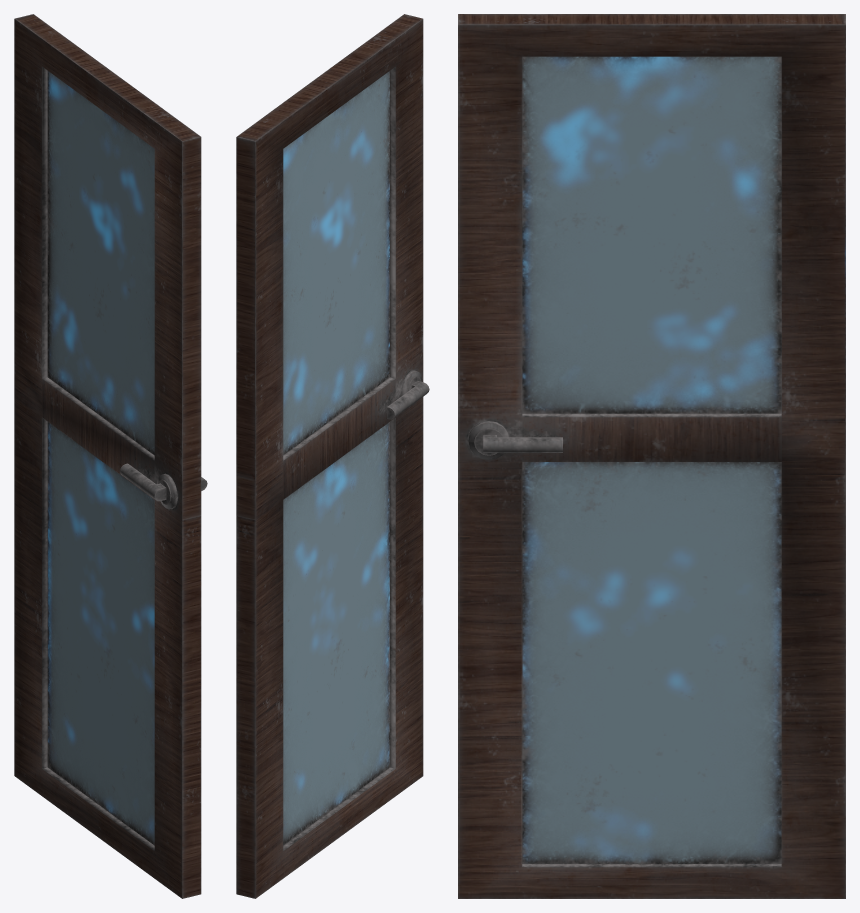
The model's file is Door_Wood.fbx.
3 renders of one model, left to right at view 1: azimuth 30°, elevation 25°; view 2: azimuth 150°, elevation 25°; view 3: azimuth 270°, elevation 25°, orthographic. The views are drawn at different scales.
Parts seen in each view (by area): view 1: Cube, Ручка; view 2: Cube, Ручка; view 3: Cube, Ручка.
Part boxes in pixels (x1,y1,x2,y2): Cube: [14, 14, 201, 898]; Ручка: [120, 463, 207, 509]; Cube: [236, 14, 423, 898]; Ручка: [387, 370, 429, 419]; Cube: [458, 14, 845, 898]; Ручка: [468, 421, 562, 459].
Size of the model in its own units: 55.63 by 759 by 305.
2 materials, 2 textured.
